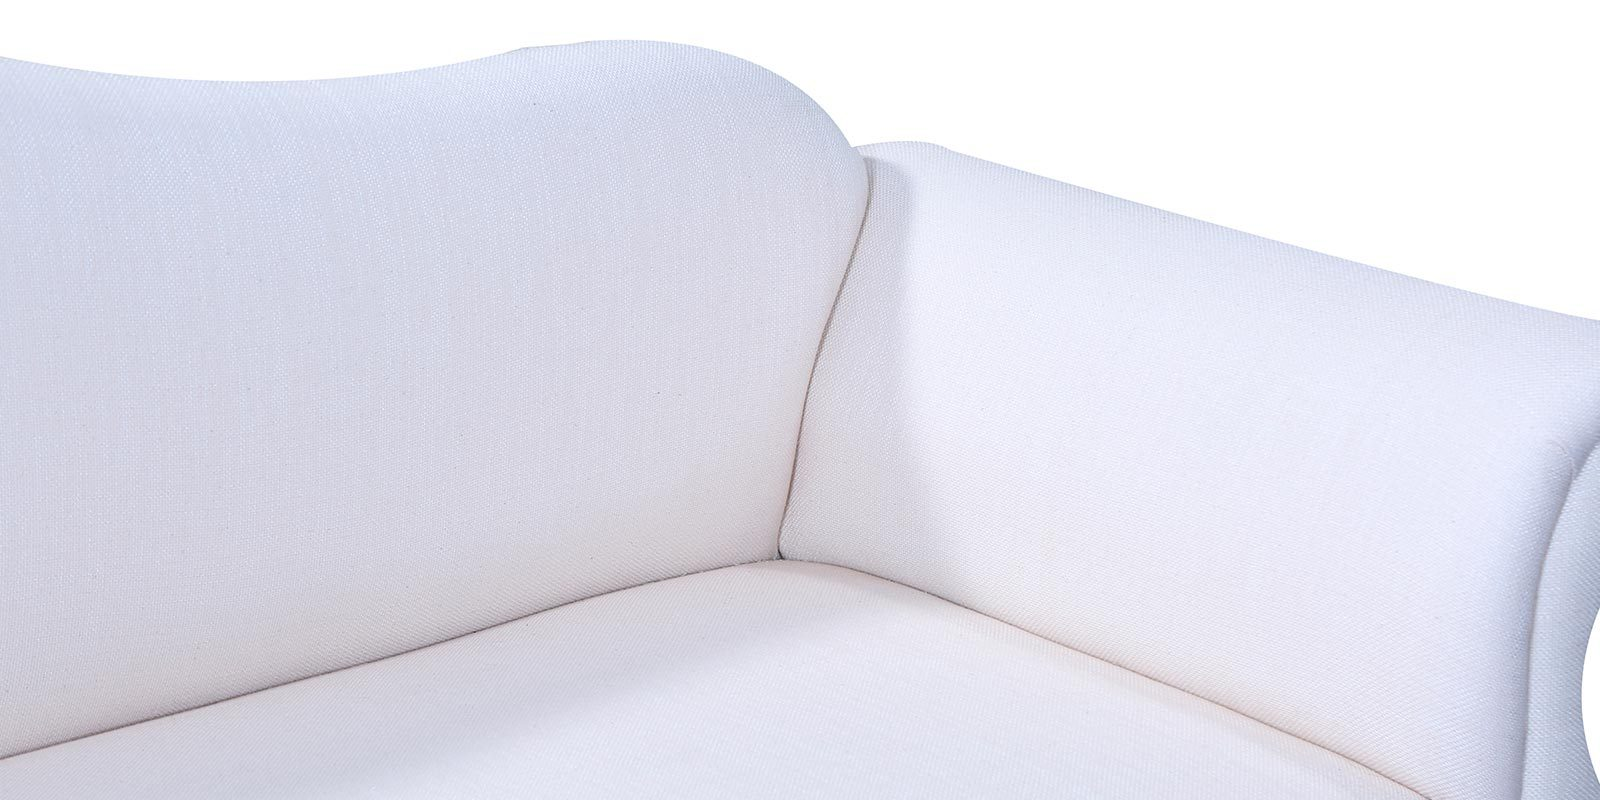Harleston Three Seater Sofa in Honey Oak Finish by Amberville: (1, 26, 1576, 800)
